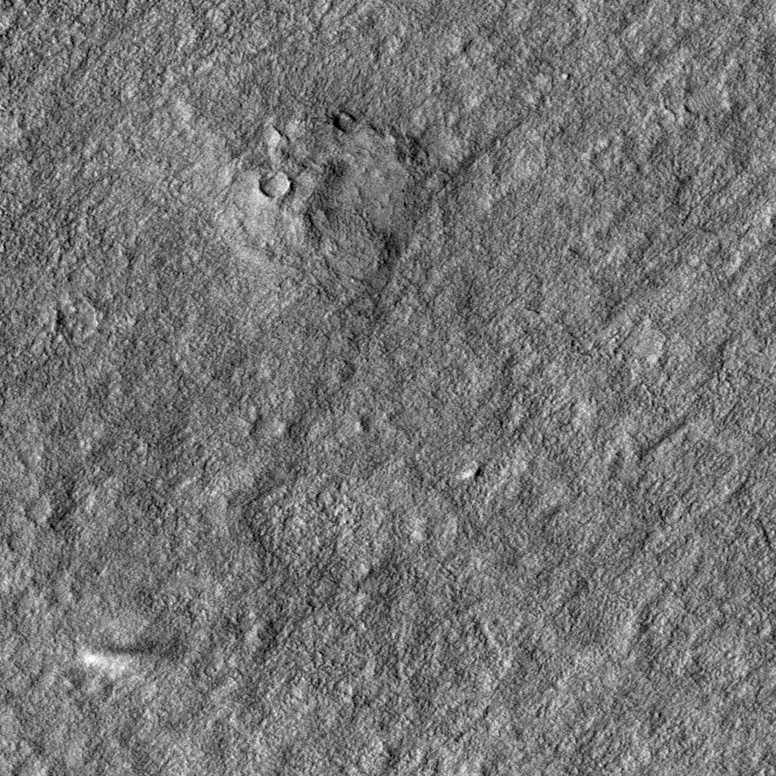dust_devil: (78, 639, 185, 679)
